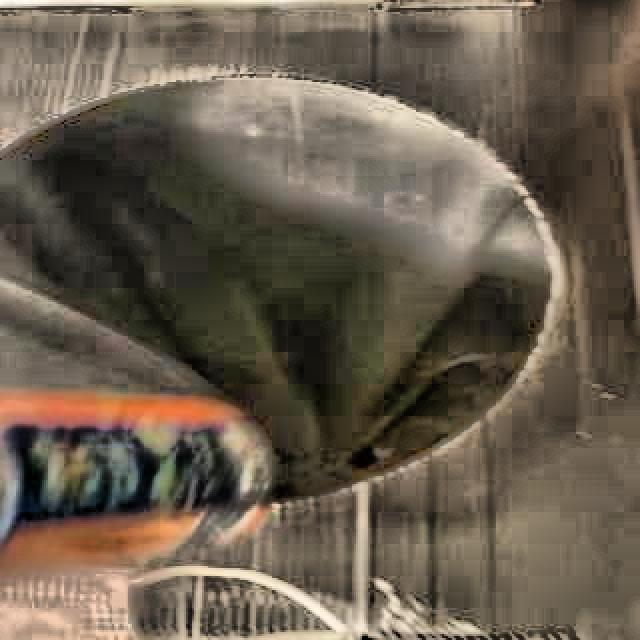metal: (0, 392, 272, 570)
